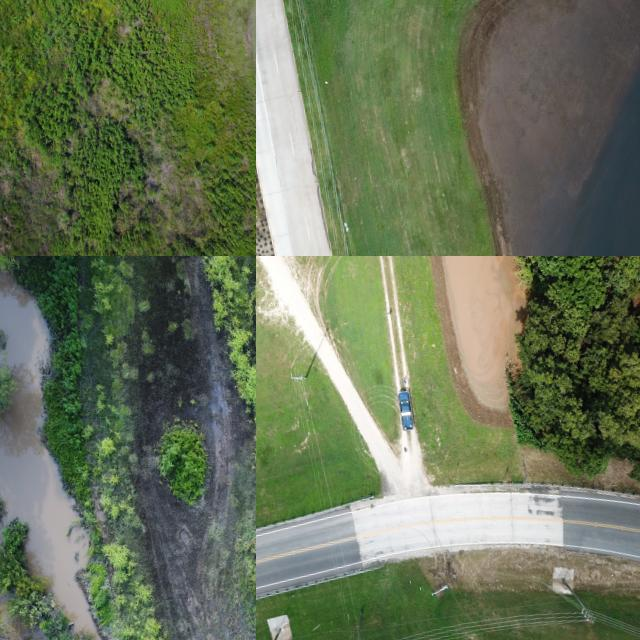fire: (0, 269, 102, 640), (534, 73, 640, 256), (443, 256, 524, 409)
